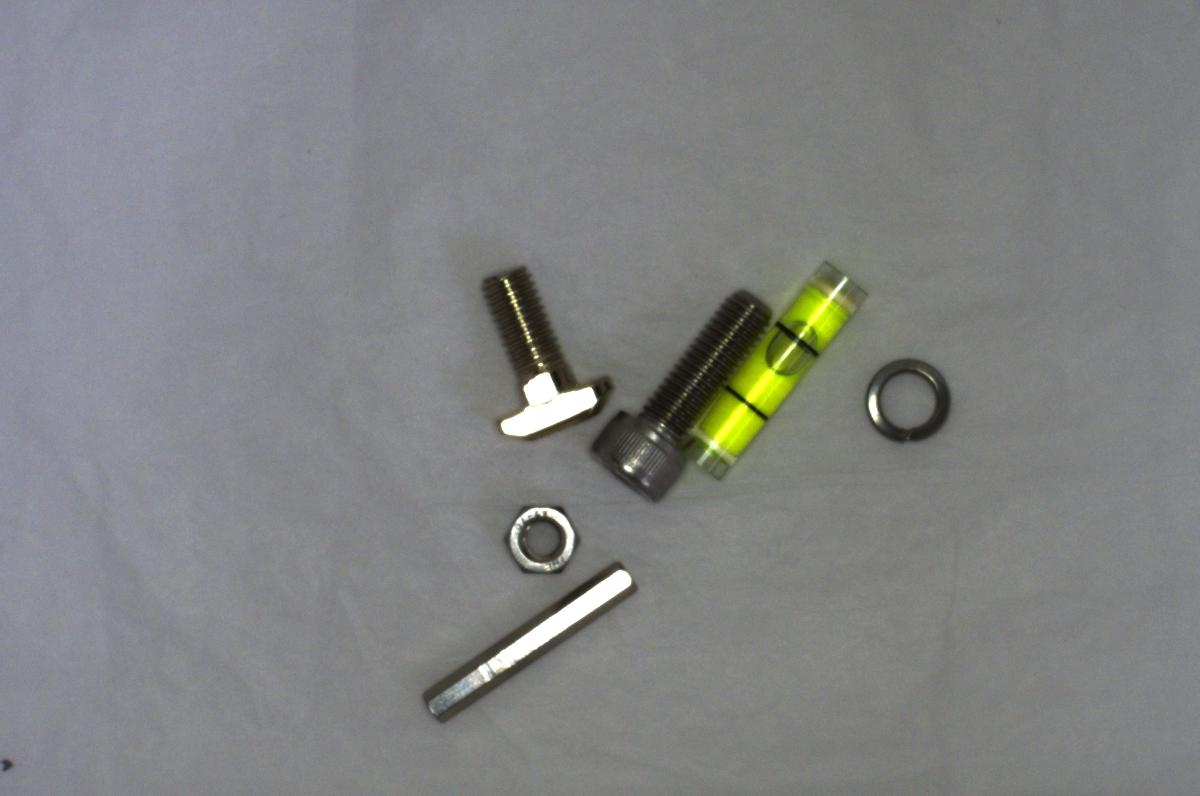Double hexagonal column: (414, 555, 641, 721)
Hexagon nut: (495, 493, 587, 583)
Horizontal bubble: (674, 259, 873, 481)
Spring washer: (857, 353, 965, 448)
T-shaped screw: (472, 256, 612, 447)
